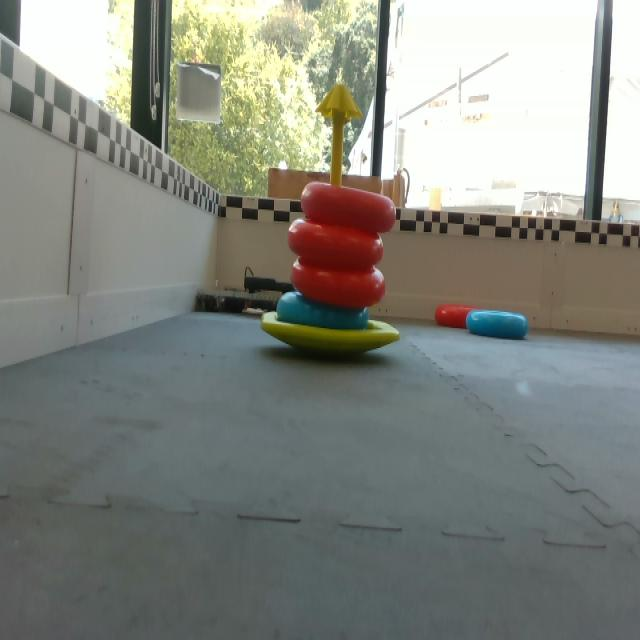Blue-Ring: (277, 291, 370, 329), (467, 309, 529, 340)
Mobile-Goal: (262, 86, 401, 358)
Red-Ring: (302, 182, 397, 232), (290, 260, 386, 308), (288, 219, 383, 266), (435, 306, 481, 329)
Yellow-Stake-Head: (316, 85, 363, 120)
